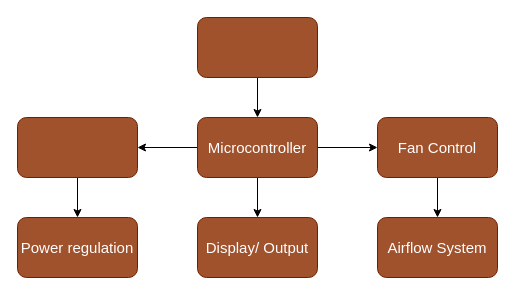
Some shapes in this 515 by 295 pixel diagram are drawn without their labels. Here are the shapes that lost their labels. From the top down, the centre of each, then its label:
[257,47]: Sensors
[77,147]: Battery
